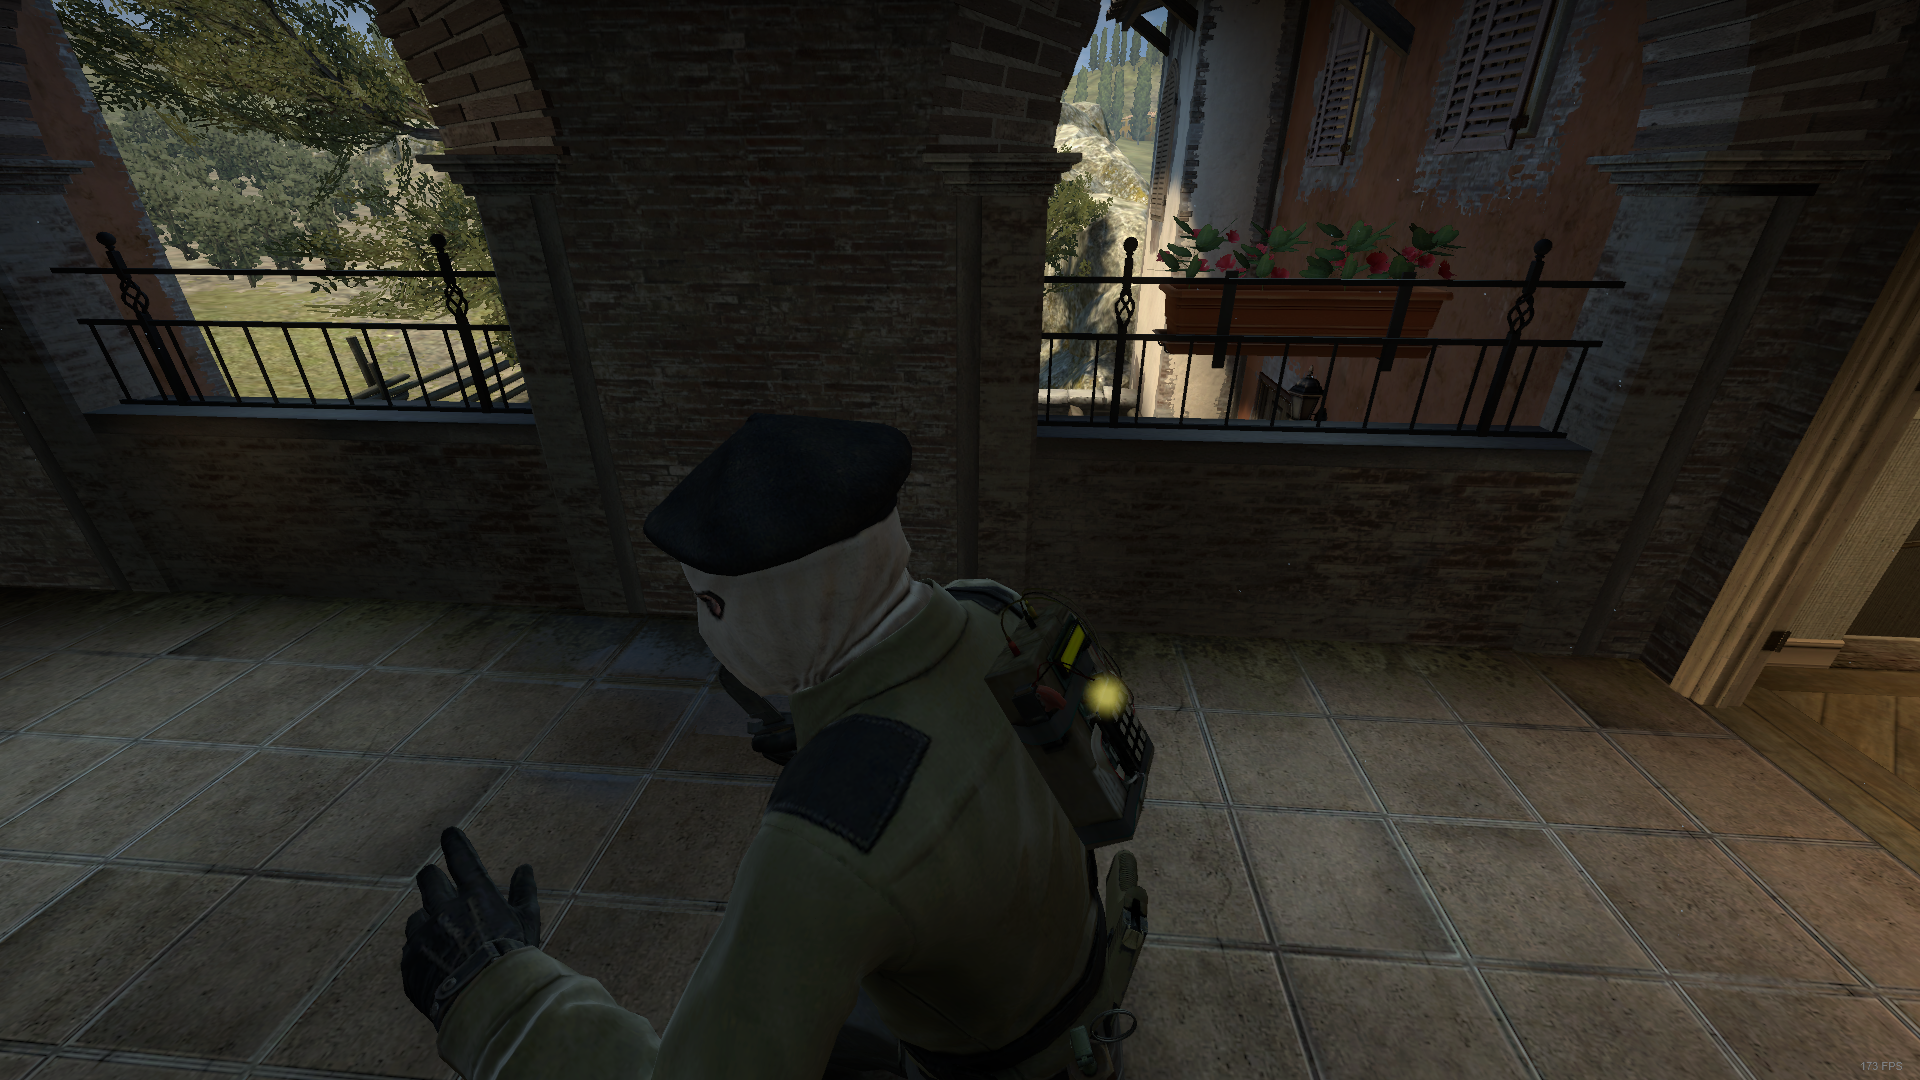t: (401, 411, 1125, 1080)
